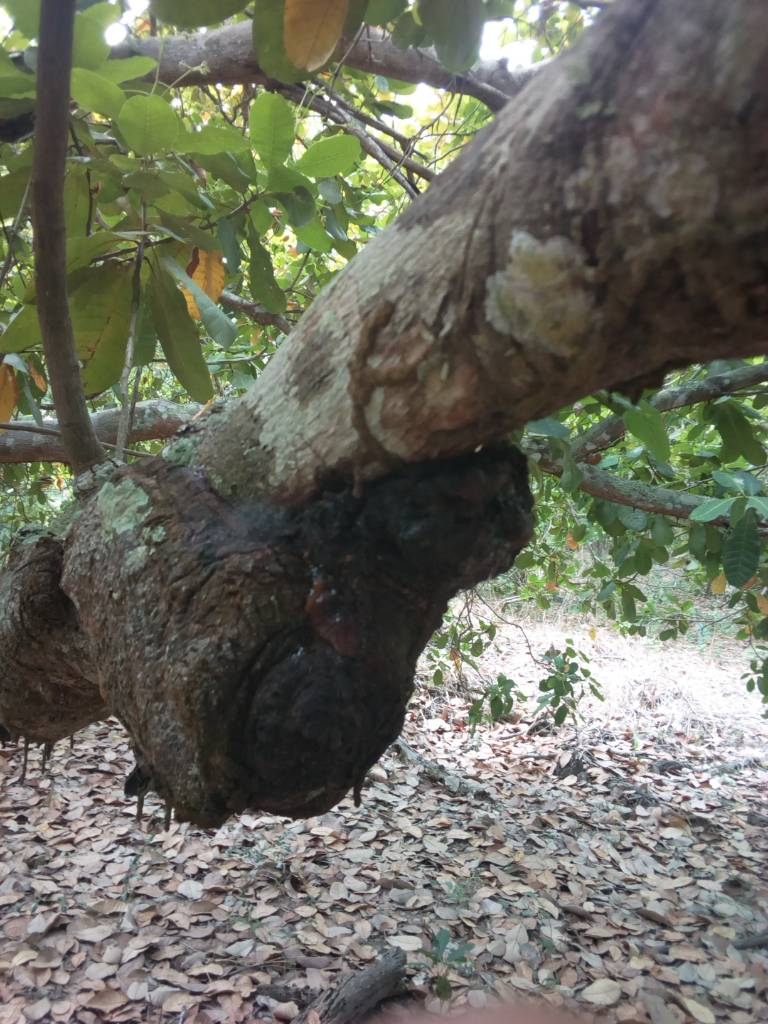Termites: (357, 297, 579, 464)
